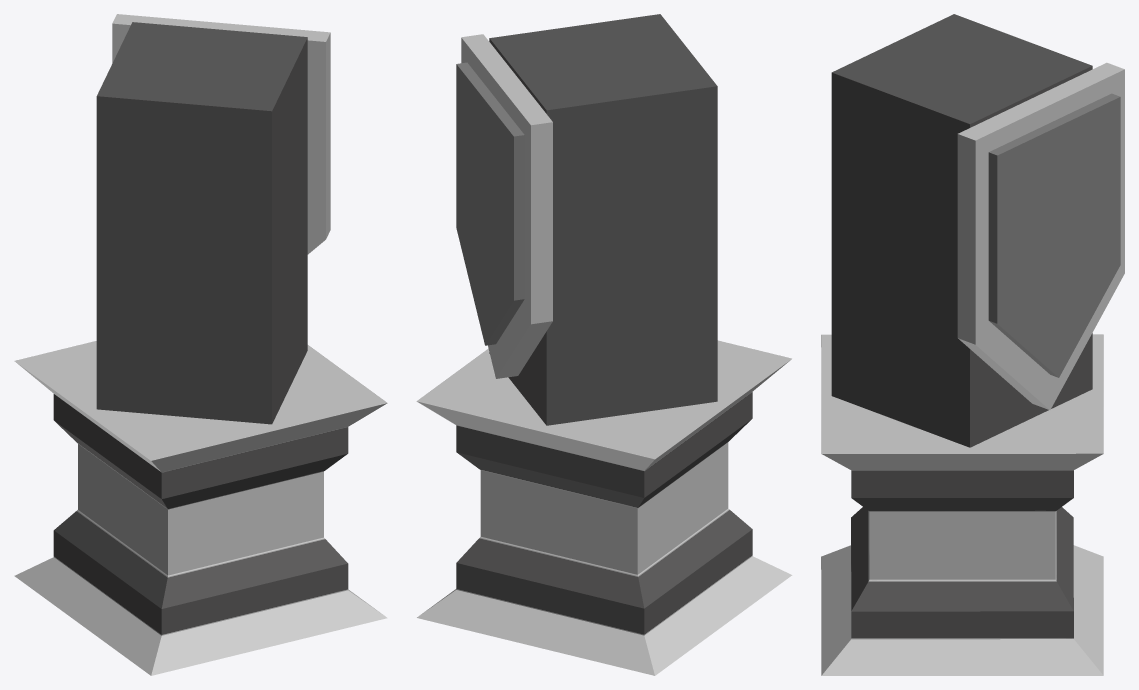
File: tameng 4.fbx
3 renders of one model, left to right at view 1: azimuth 30°, elevation 25°; view 2: azimuth 150°, elevation 25°; view 3: azimuth 270°, elevation 25°, orthographic. The views are drawn at different scales.
Visible parts, largest first — view 1: Cube.002, Cube.003, Cube; view 2: Cube.003, Cube.002, Cube.001, Cube; view 3: Cube.003, Cube.002, Cube.001, Cube.
Boxes of the visible parts, x1,y1,x2,y2 form: Cube.002: (96,22,307,424); Cube.003: (14,341,387,675); Cube: (112,14,330,254); Cube.003: (416,340,792,675); Cube.002: (489,14,717,425); Cube.001: (456,62,524,345); Cube: (461,34,552,378); Cube.003: (821,334,1103,675); Cube.002: (831,14,1092,447); Cube.001: (988,93,1120,377); Cube: (957,62,1124,409).
Bounding box in the file's own units: 269 × 536 × 270.
